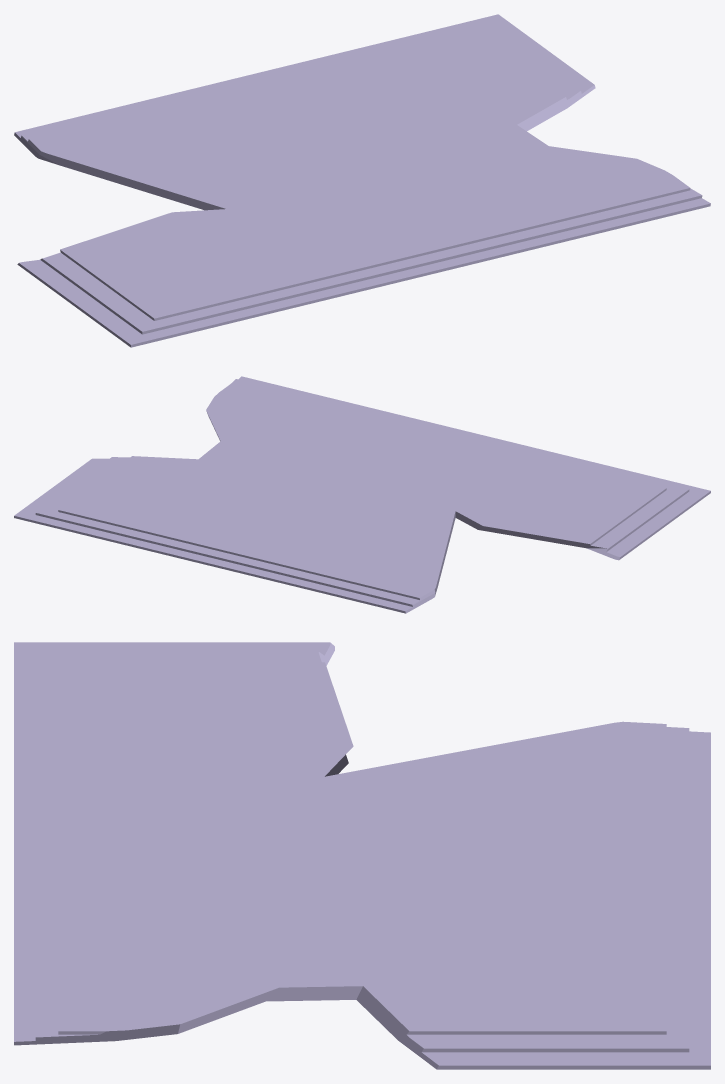
Rendered from RuinsPlatformBroken.fbx.
3 views of the same model, one above another, from view 1: azimuth 30°, elevation 25°; view 2: azimuth 150°, elevation 25°; view 3: azimuth 270°, elevation 25° (orthographic). The views are drawn at different scales.
Visible parts, largest first — view 1: RuinsPlatformBroken; view 2: RuinsPlatformBroken; view 3: RuinsPlatformBroken.
Boxes of the visible parts, left/top/right/bottom form: RuinsPlatformBroken: left=14, top=14, right=710, bottom=347; RuinsPlatformBroken: left=14, top=376, right=710, bottom=613; RuinsPlatformBroken: left=14, top=642, right=710, bottom=1069.
Bounding box in the file's own units: 1796 × 22.21 × 1250.
